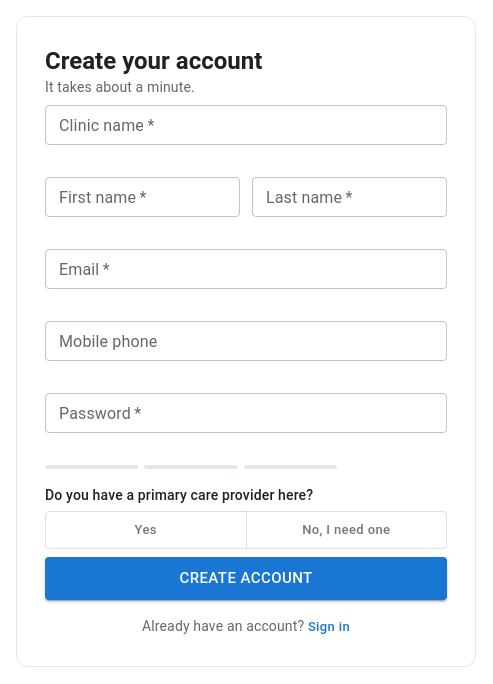
public sign-up › checks the form first and shows problems under the fields
This screenshot has width=493, height=684.
Click the button "Create account".
click(246, 578)  # box top-left (45, 557), bottom-right (447, 600)
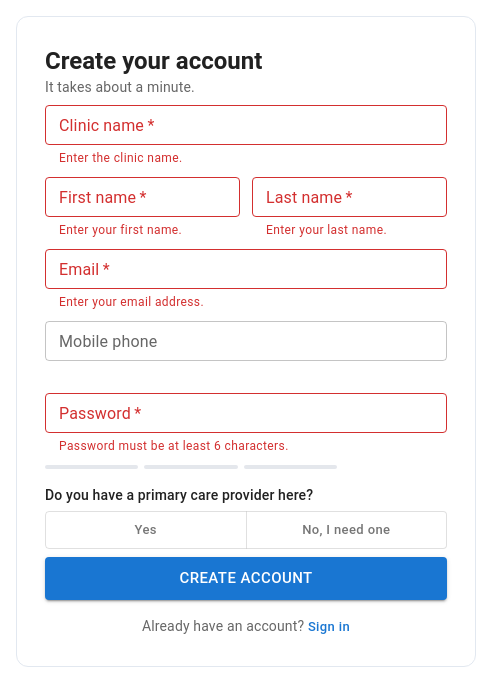
Expected: the text "Enter your first name." is shown, top-left (59, 223), bottom-right (182, 237)
Expected: the text "Enter your email address." is shown, top-left (59, 295), bottom-right (204, 309)
